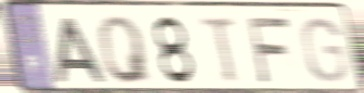8: (152, 14, 196, 86)
A: (54, 16, 108, 85)
F: (244, 15, 292, 85)
G: (299, 15, 350, 85)
Q: (95, 13, 156, 87)
T: (198, 14, 242, 86)
